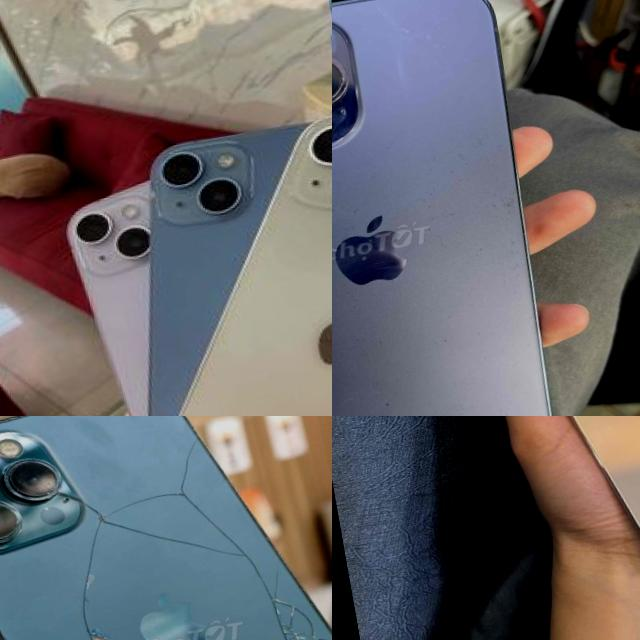physical_damage: (19, 416, 332, 640)
